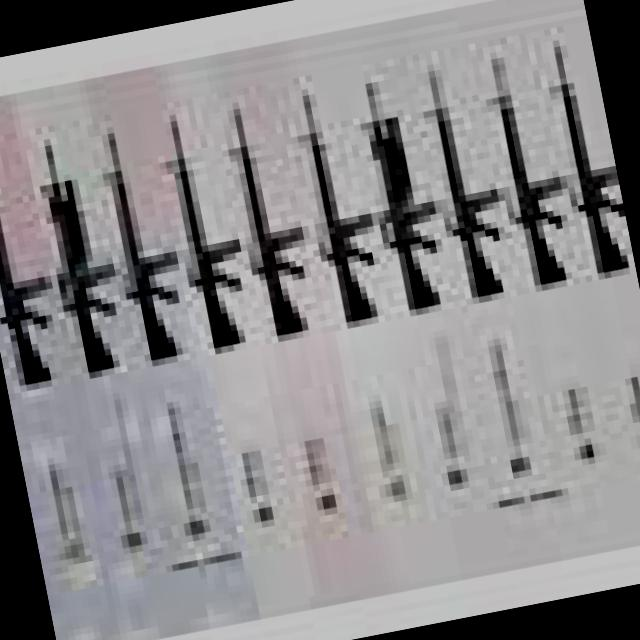long weapon: (468, 53, 596, 316), (408, 42, 529, 312), (347, 50, 464, 326), (214, 78, 329, 354), (83, 111, 203, 371), (145, 83, 257, 358), (23, 111, 133, 385), (291, 75, 404, 340), (536, 18, 637, 290), (0, 134, 78, 402)
